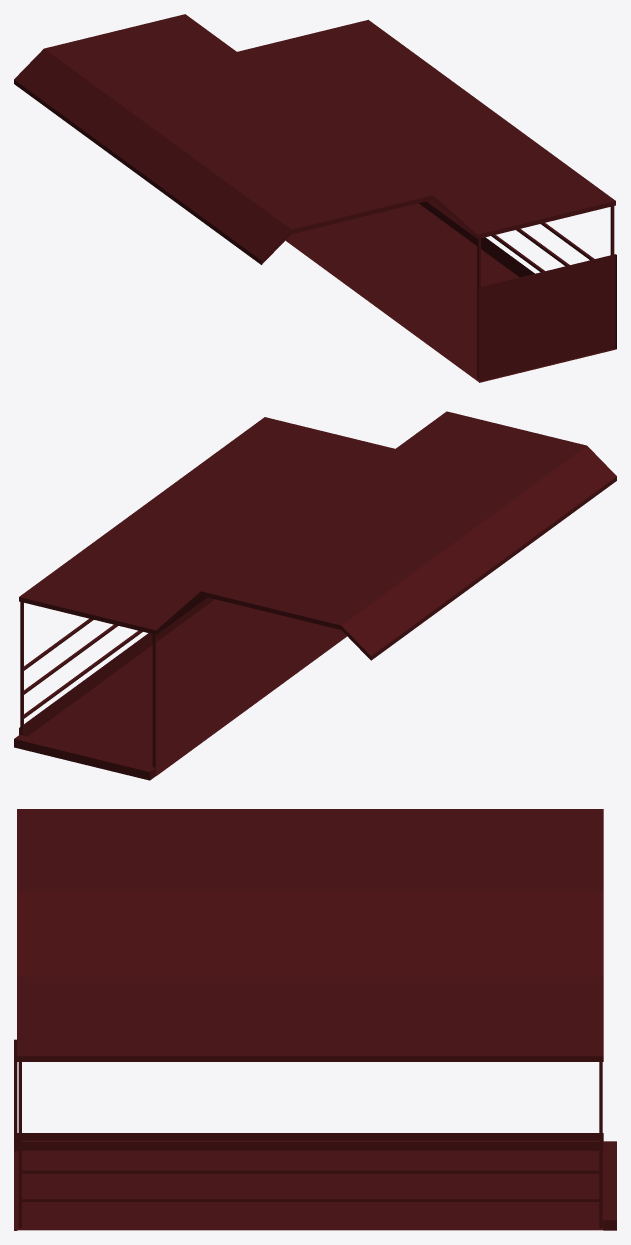
Rendered from bus_stop.dae.
The picture shows the model from 3 angles, top to bottom: view 1: azimuth 30°, elevation 25°; view 2: azimuth 150°, elevation 25°; view 3: azimuth 270°, elevation 25°; orthographic projection. The views are drawn at different scales.
Visible parts, largest first — view 1: bus-stop, bus-stop-base; view 2: bus-stop, bus-stop-base, bus-stop-front-col; view 3: bus-stop, bus-stop-base.
Part boxes in pixels (x1,y1,x2,y2): bus-stop: (14,14,615,272); bus-stop-base: (285,201,616,382); bus-stop: (19,411,616,735); bus-stop-base: (14,597,347,780); bus-stop-front-col: (152,634,156,773); bus-stop: (17,809,603,1228); bus-stop-base: (14,1039,616,1230).
Size of what is drawn, in the model's own units: 15.37 by 19.11 by 8.19.
